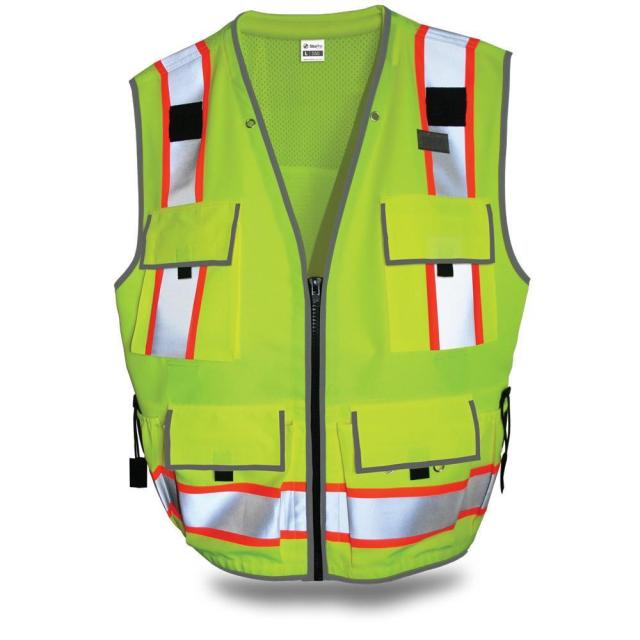Vest: (108, 2, 534, 587)
